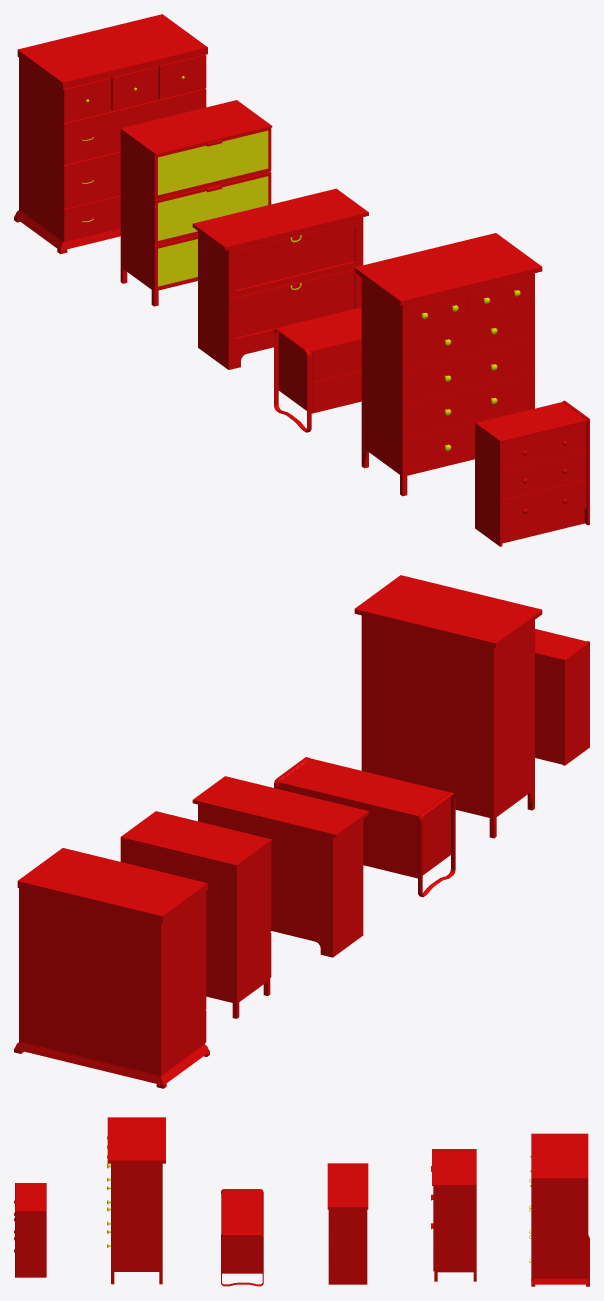
File: thorkea_dressers_grp.fbx
3 renders of one model, top to bottom at view 1: azimuth 30°, elevation 25°; view 2: azimuth 150°, elevation 25°; view 3: azimuth 270°, elevation 25°, orthographic. The views are drawn at different scales.
Parts seen in each view (by area): view 1: thorkea_dresser_hemnes, thorkea_dresser_birkeland, thorkea_dresser_aspelund, thorkea_dresser_aneboda, thorkea_dresser_rast, thorkea_dresser_anes; view 2: thorkea_dresser_birkeland, thorkea_dresser_hemnes, thorkea_dresser_aspelund, thorkea_dresser_aneboda, thorkea_dresser_anes, thorkea_dresser_rast; view 3: thorkea_dresser_birkeland, thorkea_dresser_hemnes, thorkea_dresser_aneboda, thorkea_dresser_aspelund, thorkea_dresser_anes, thorkea_dresser_rast.
Part boxes in pixels (left/top/right/bottom): thorkea_dresser_hemnes: left=354, top=233, right=542, bottom=496; thorkea_dresser_birkeland: left=14, top=14, right=207, bottom=254; thorkea_dresser_aspelund: left=192, top=188, right=368, bottom=369; thorkea_dresser_aneboda: left=120, top=100, right=272, bottom=306; thorkea_dresser_rast: left=475, top=400, right=589, bottom=546; thorkea_dresser_anes: left=274, top=307, right=361, bottom=432; thorkea_dresser_birkeland: left=14, top=848, right=209, bottom=1088; thorkea_dresser_hemnes: left=354, top=575, right=542, bottom=838; thorkea_dresser_aspelund: left=192, top=776, right=368, bottom=957; thorkea_dresser_aneboda: left=120, top=811, right=272, bottom=1018; thorkea_dresser_anes: left=274, top=757, right=455, bottom=897; thorkea_dresser_rast: left=535, top=629, right=589, bottom=765; thorkea_dresser_birkeland: left=529, top=1133, right=589, bottom=1286; thorkea_dresser_hemnes: left=107, top=1117, right=165, bottom=1284; thorkea_dresser_aneboda: left=431, top=1149, right=476, bottom=1281; thorkea_dresser_aspelund: left=327, top=1163, right=368, bottom=1284; thorkea_dresser_anes: left=221, top=1189, right=263, bottom=1286; thorkea_dresser_rast: left=14, top=1183, right=46, bottom=1277.
Size of the model in its own units: 103 by 130 by 545.
